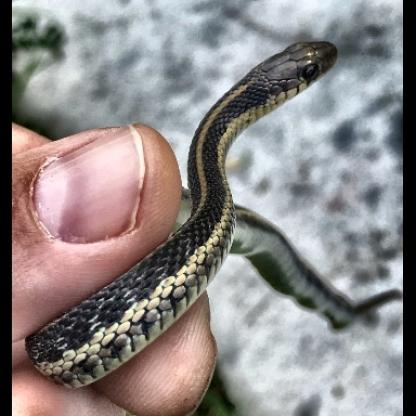Snake: (24, 35, 346, 391), (210, 28, 340, 146)
